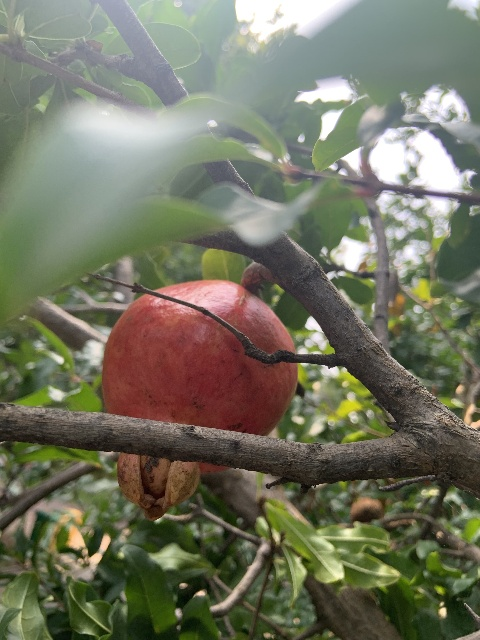ripe: (100, 279, 297, 519)
